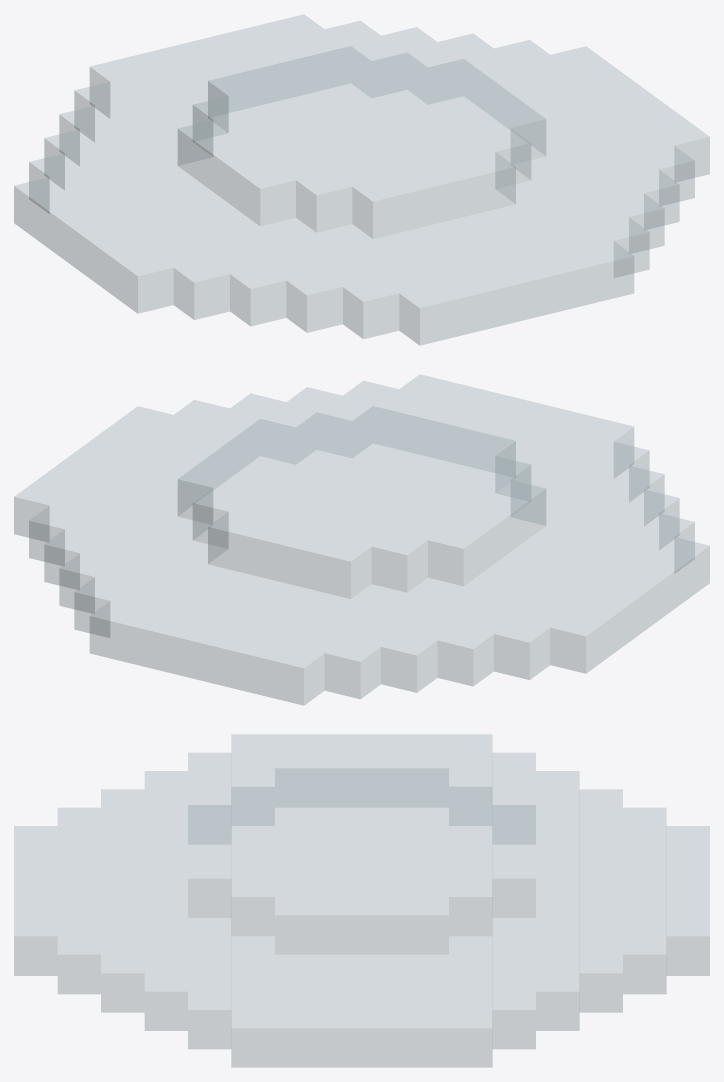
Rendered from lens.glb.
3 views of the same model, one above another, from view 1: azimuth 30°, elevation 25°; view 2: azimuth 150°, elevation 25°; view 3: azimuth 270°, elevation 25° (orthographic). The views are drawn at different scales.
Parts seen in each view (by area): view 1: lens:compound; view 2: lens:compound; view 3: lens:compound.
Part boxes in pixels (box(x1,y1,x2,y2)): lens:compound: box(14, 14, 709, 345); lens:compound: box(14, 374, 709, 705); lens:compound: box(14, 734, 709, 1067).
Size of the model in its own units: 0.032 by 0.004 by 0.032.
